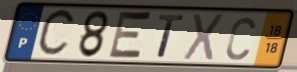8: (77, 10, 111, 60)
C: (34, 6, 78, 60), (224, 15, 258, 62)
E: (106, 8, 155, 62)
T: (155, 13, 187, 60)
X: (180, 12, 227, 64)
